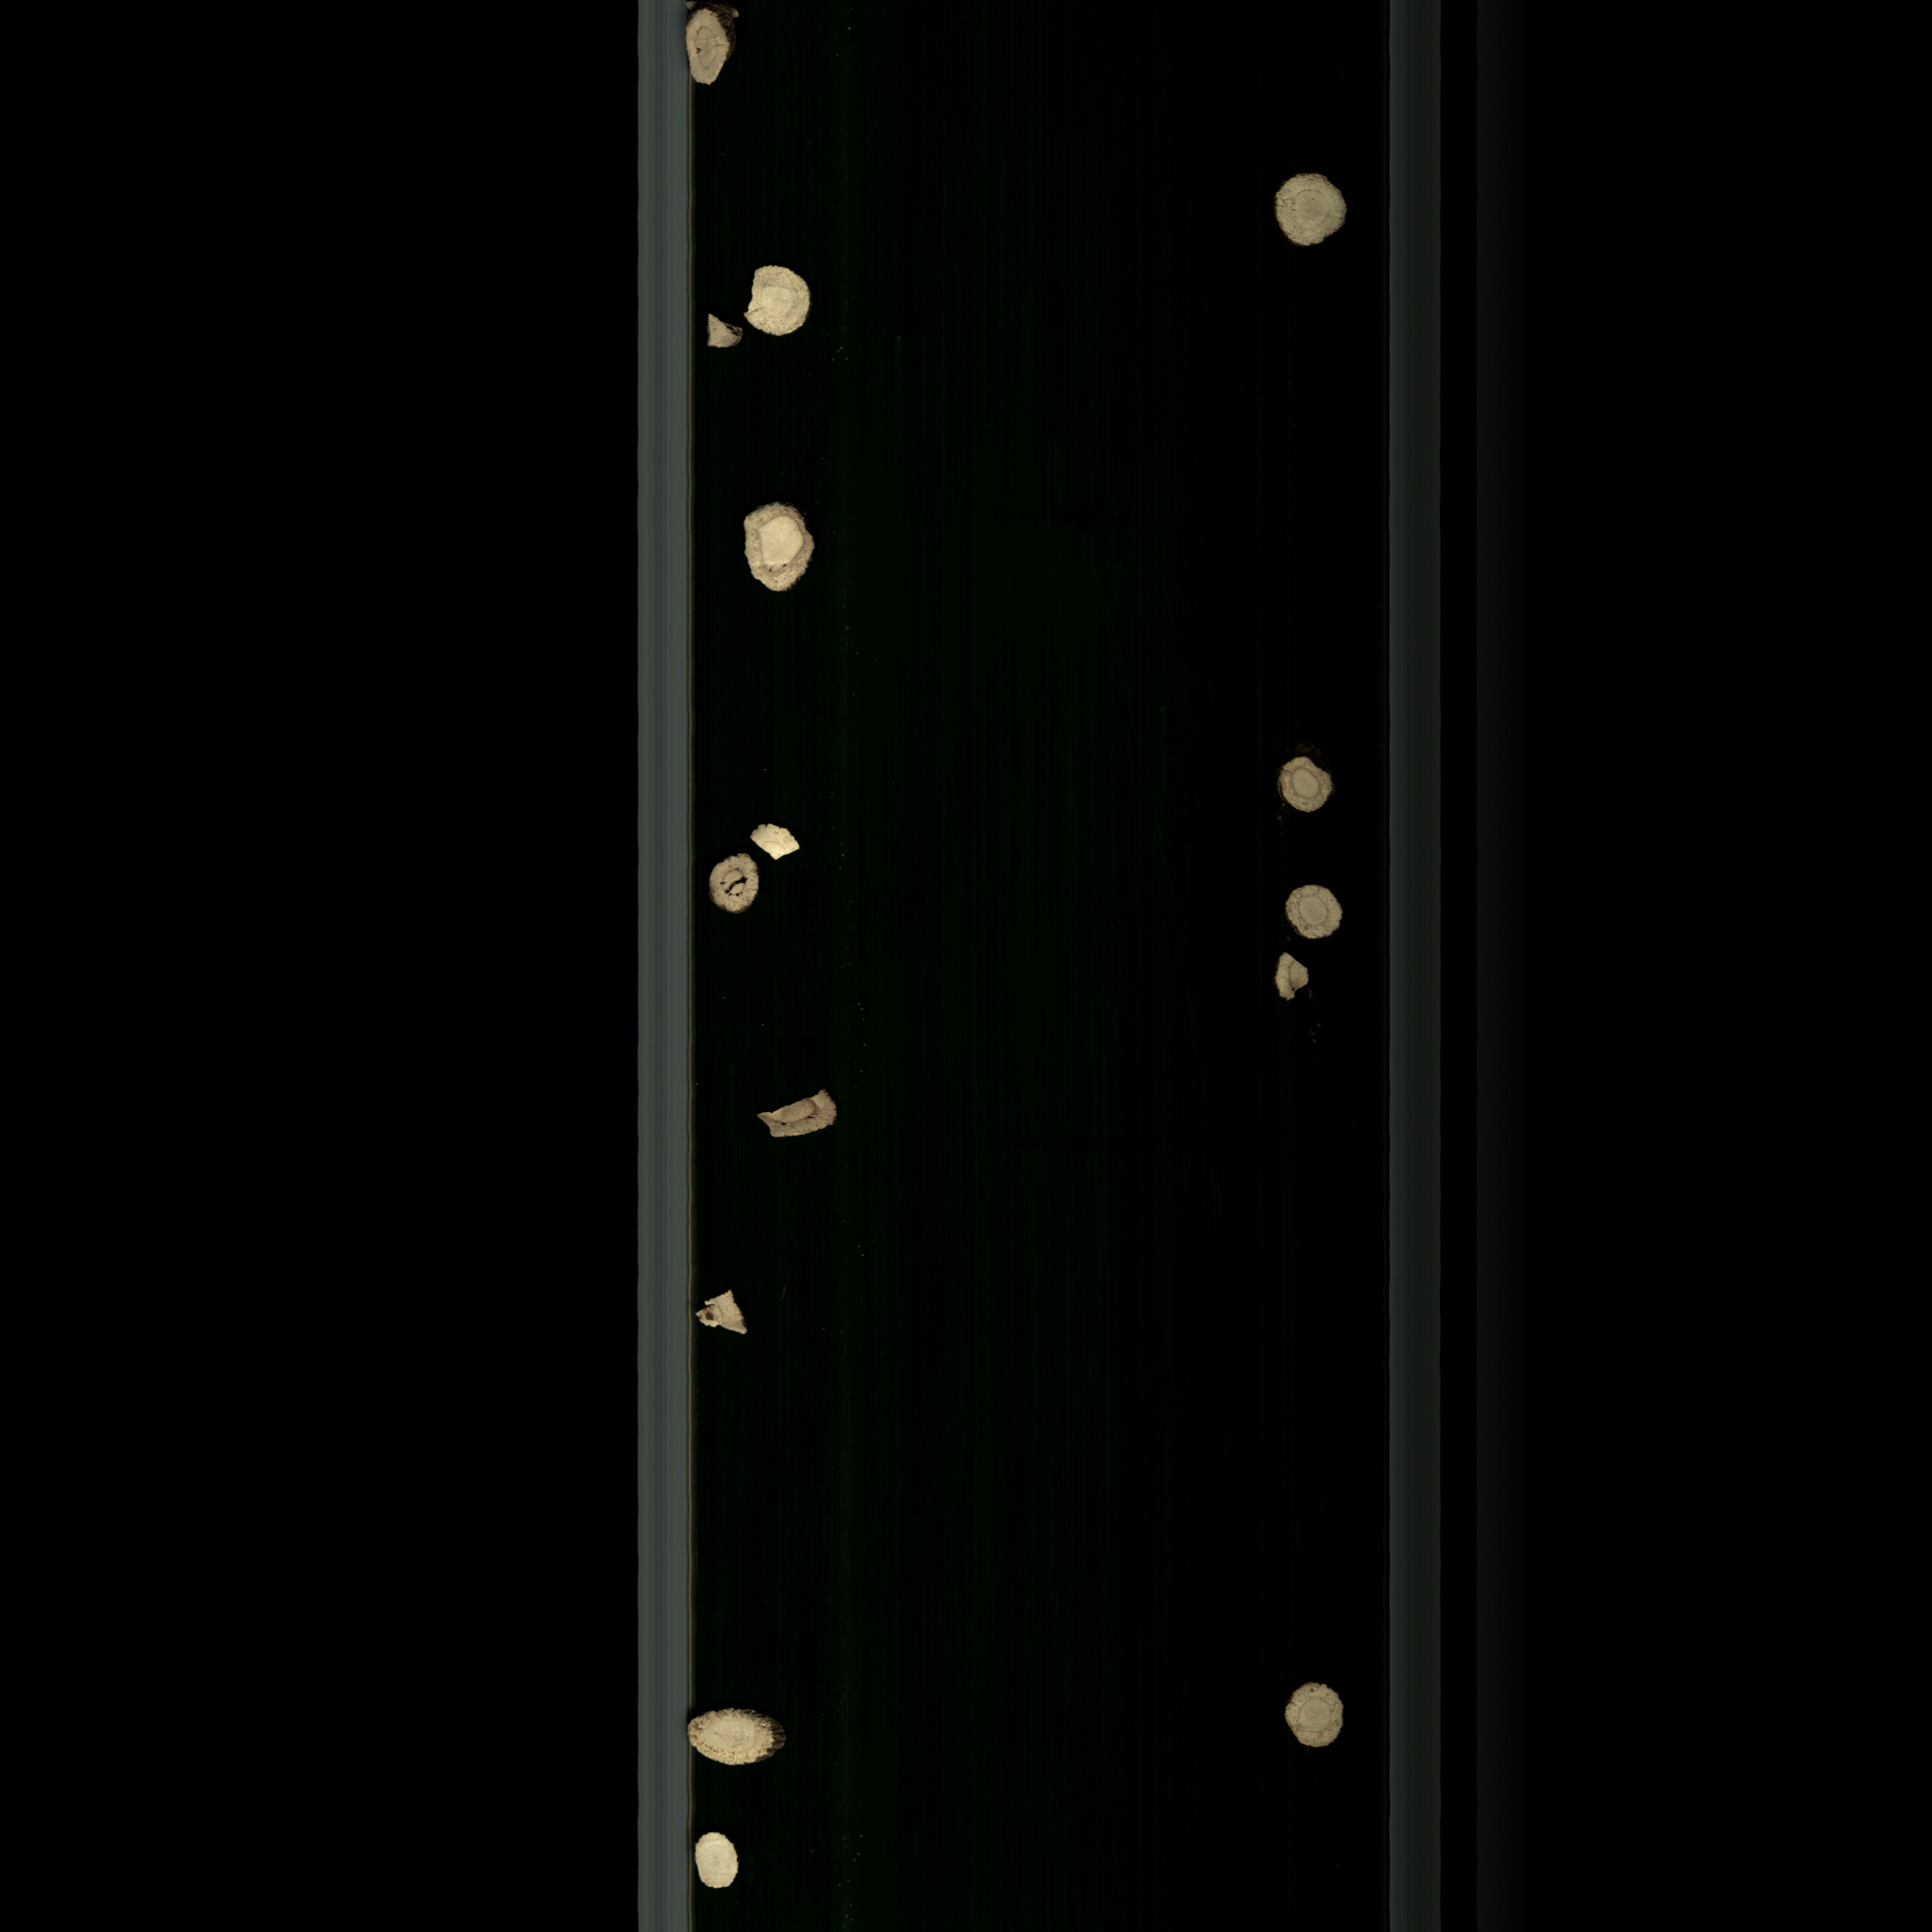debris: (745, 257, 821, 357), (678, 9, 738, 99)
distortion: (669, 1704, 800, 1778)
dreg: (695, 1281, 757, 1345), (747, 816, 819, 867), (1265, 948, 1320, 1008), (697, 303, 743, 361)
hole: (729, 499, 830, 610), (697, 851, 782, 927)
moldy: (747, 1088, 869, 1161), (1265, 750, 1345, 823)
